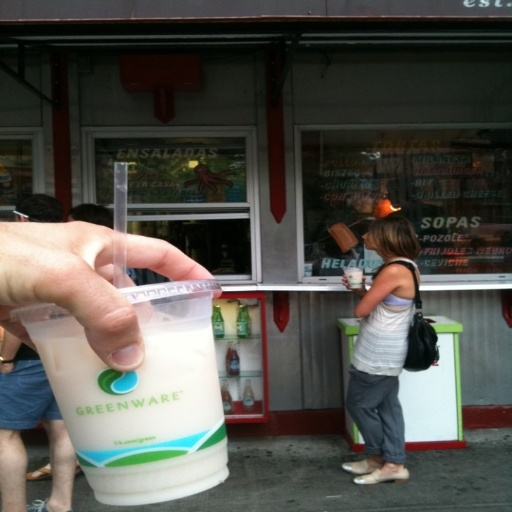hand: (0, 201, 212, 386), (340, 273, 366, 292), (0, 359, 15, 374)
